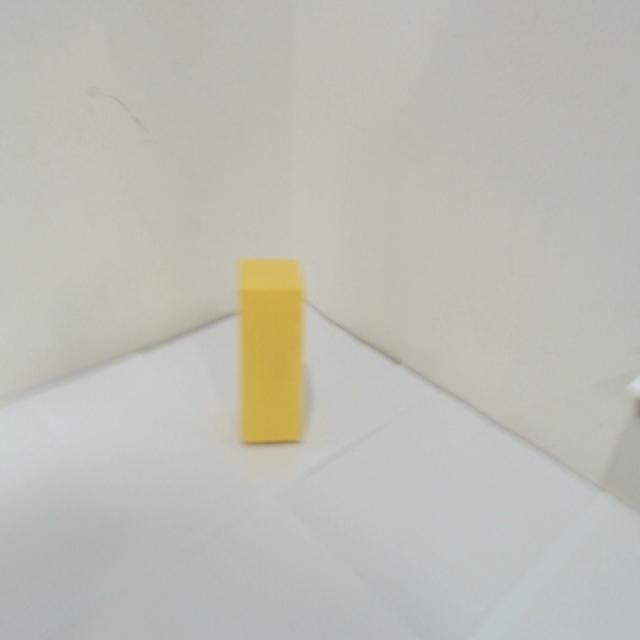cube: (232, 241, 315, 458)
